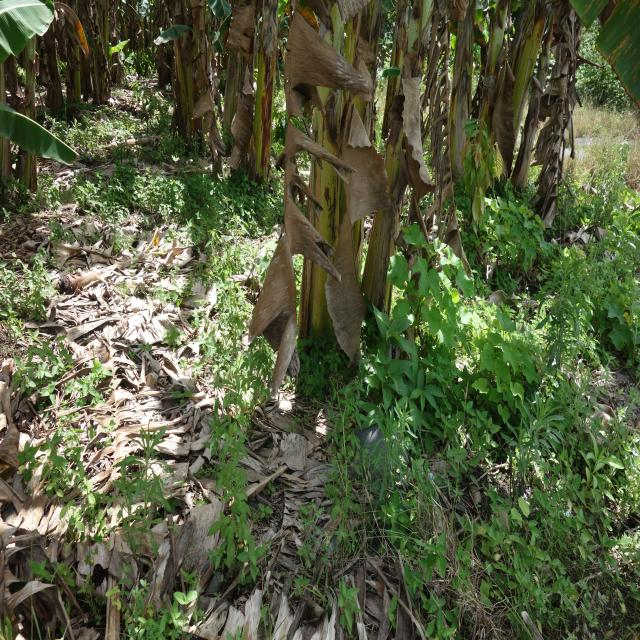Banana-plant: (299, 0, 359, 374), (502, 0, 546, 193), (447, 0, 476, 203), (250, 0, 276, 191)
